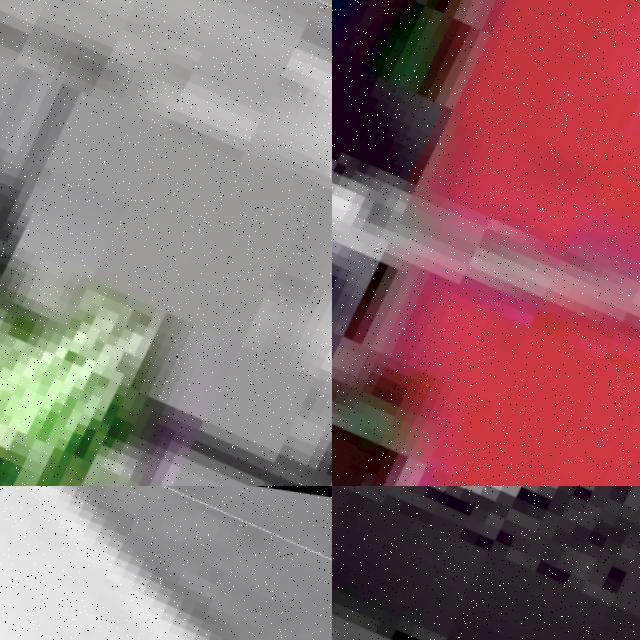drone: (0, 0, 332, 486), (332, 0, 640, 486), (0, 486, 332, 640), (332, 486, 640, 640)
